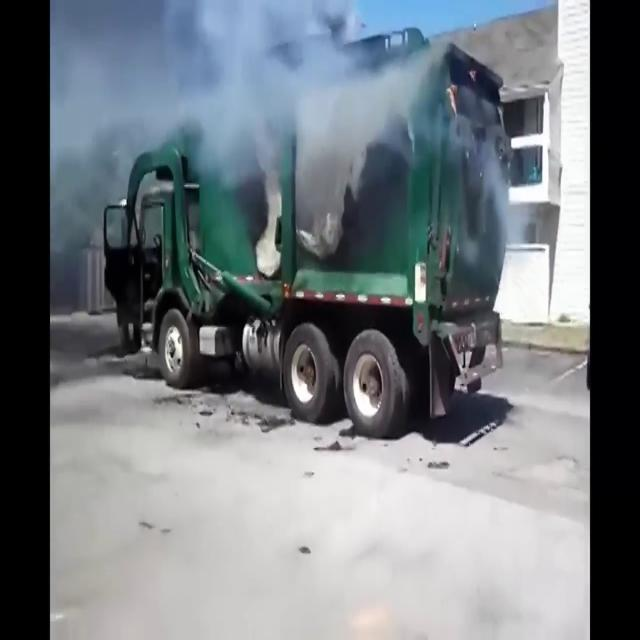Smoke: (54, 0, 496, 256)
